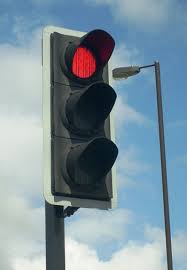signal: (42, 26, 118, 209)
